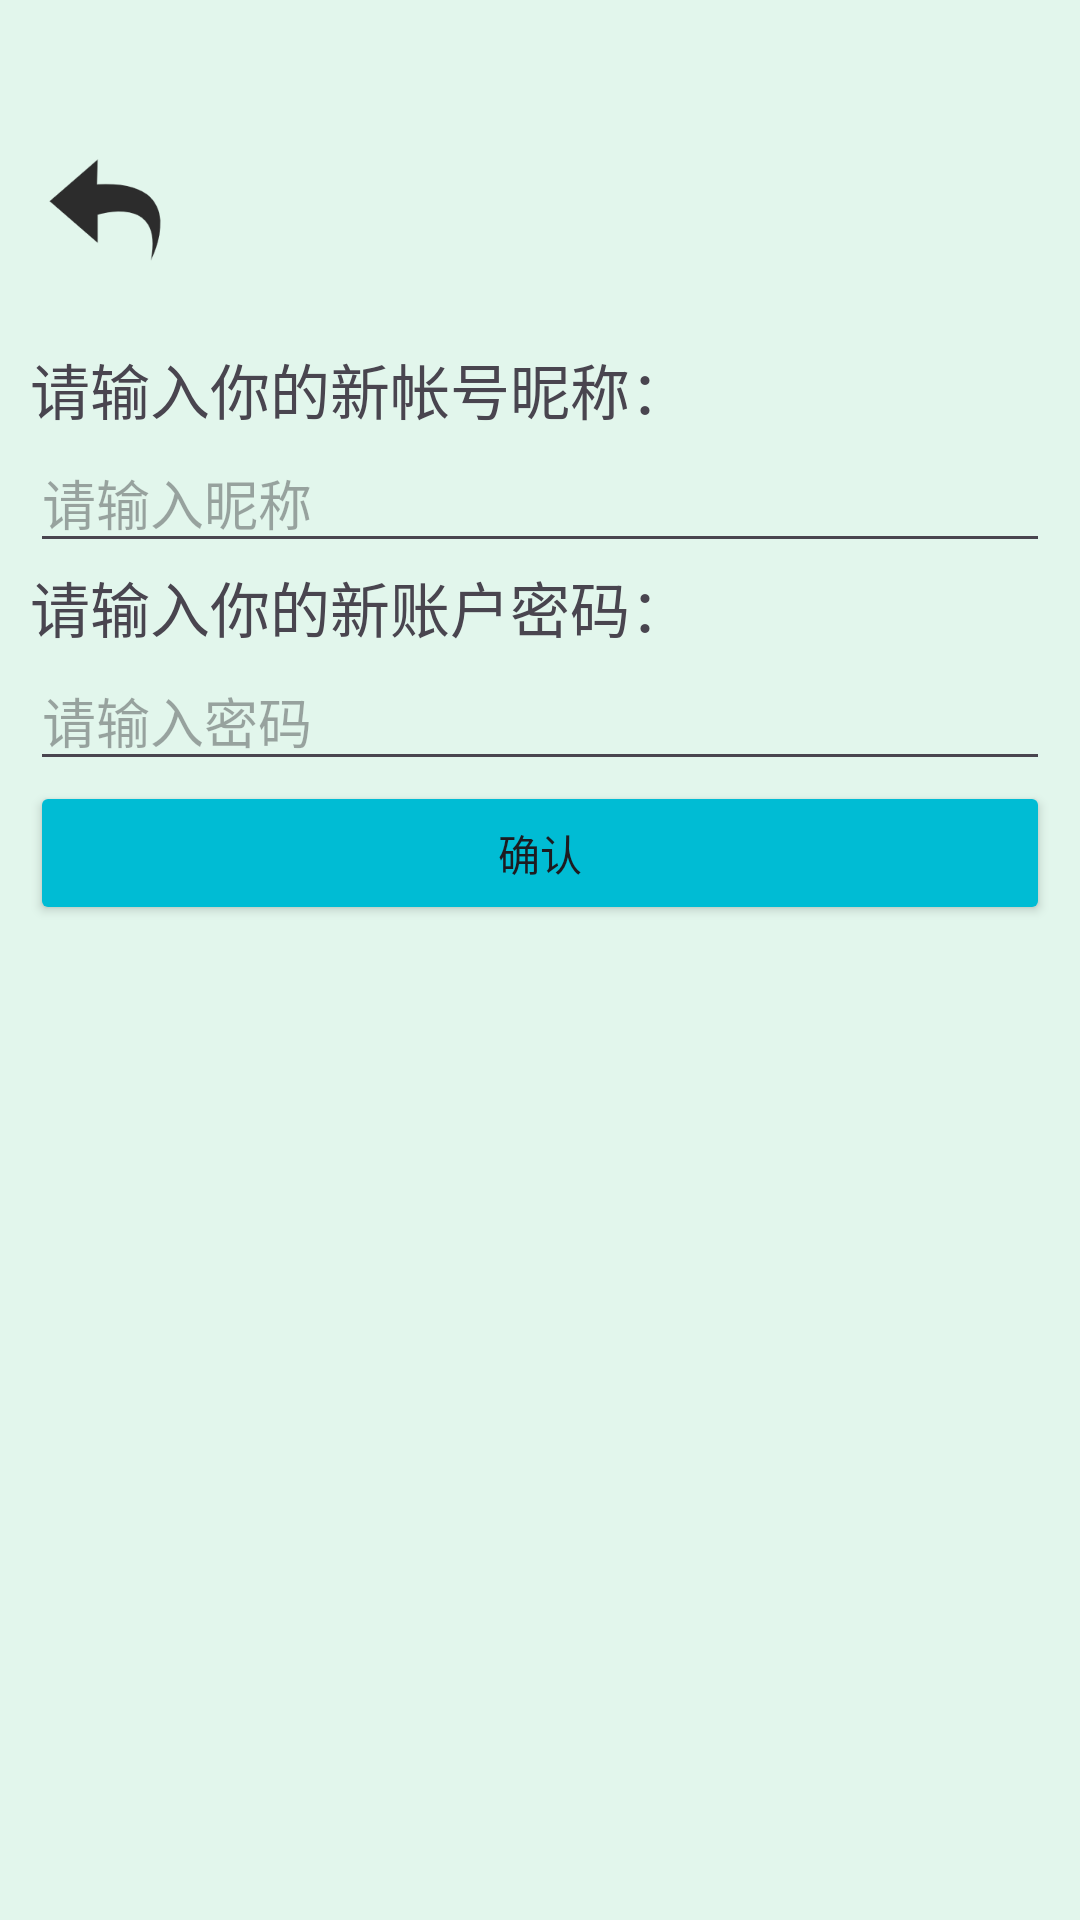

Screen size 1080w x 1920h. Icon name, then its center in pixels as (x,y):
back: (105,209)
